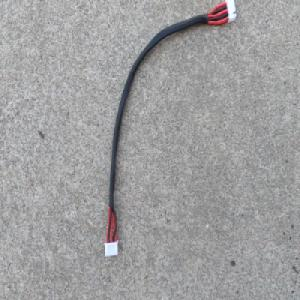Wire: (102, 0, 238, 261)
